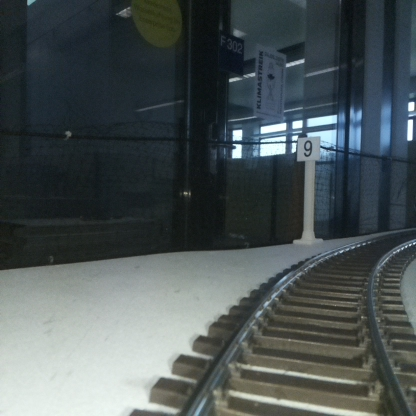white-info-9: (297, 136, 319, 243)
